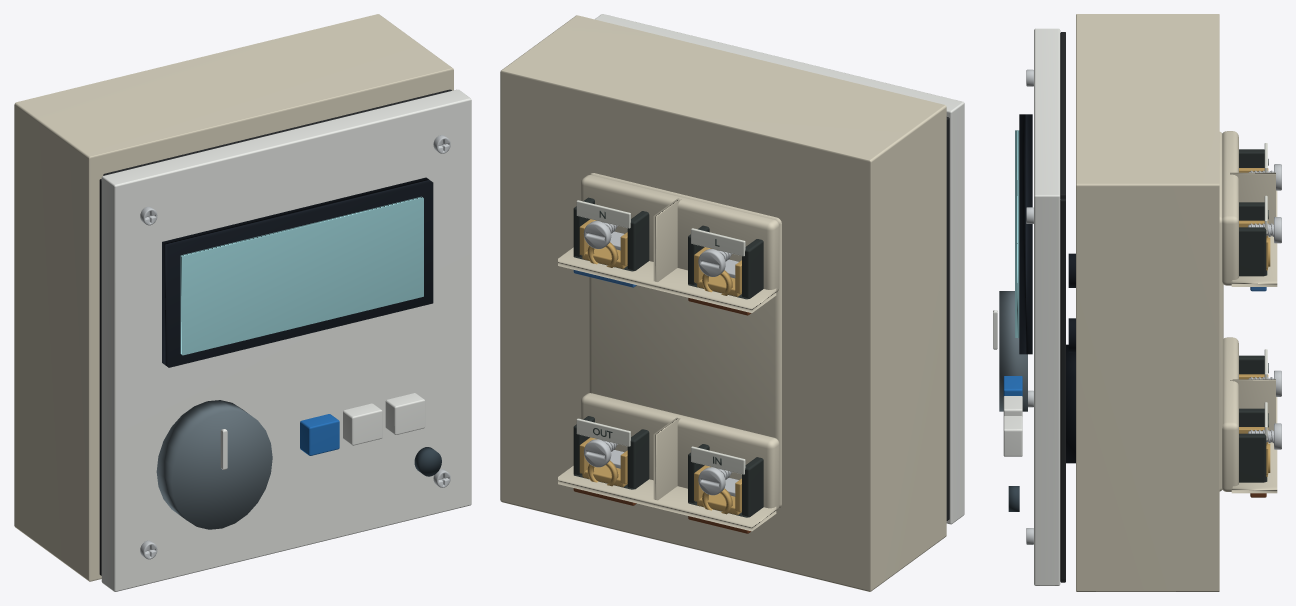
Rendered from timer_default.glb.
3 renders of one model, left to right at view 1: azimuth 30°, elevation 25°; view 2: azimuth 150°, elevation 25°; view 3: azimuth 270°, elevation 25°, orthographic. The views are drawn at different scales.
Visible parts, largest first — view 1: part:cover, part:body, part:display, part:body.001, part:body.001 · Original 7dbee62c, detail:enclosure-gasket-and-fixings · Detail rubber gasket, detail:enclosure-gasket-and-fixings · Detail zinc plated fix, part:display.001; view 2: part:body, part:terminals · Original 5a609f27, part:cover, detail:terminal-clamp:N · Detail moulded engineering polymer, detail:terminal-clamp:OUT · Detail moulded engineering polym, detail:terminal-clamp:IN · Detail moulded engineering polyme, detail:terminal-clamp:L · Detail moulded engineering polymer, detail:enclosure-gasket-and-fixings · Detail rubber gasket, detail:terminal-clamp:OUT · Detail machined brass, detail:terminal-clamp:N · Detail machined brass, detail:terminal-clamp:IN · Detail machined brass, detail:terminal-clamp:L · Detail machined brass (+8 smaller); view 3: part:body, part:cover, part:terminals · Original 5a609f27, part:display, detail:enclosure-gasket-and-fixings · Detail rubber gasket, part:body.001, detail:terminal-clamp:OUT · Detail moulded engineering polym, detail:terminal-clamp:N · Detail moulded engineering polymer, part:body.001 · Original 7dbee62c, part:contacts, part:electronics · Original 3ff2d46d, detail:enclosure-gasket-and-fixings · Detail zinc plated fix (+2 smaller).
Boxes of the visible parts, x1,y1,x2,y2 form: part:cover: [101, 89, 471, 591]; part:body: [14, 14, 453, 581]; part:display: [162, 177, 433, 367]; part:body.001: [156, 400, 339, 529]; part:body.001 · Original 7dbee62c: [220, 393, 425, 469]; detail:enclosure-gasket-and-fixings · Detail rubber gasket: [99, 89, 451, 575]; detail:enclosure-gasket-and-fixings · Detail zinc plated fix: [140, 135, 450, 559]; part:display.001: [414, 447, 441, 476]; part:body: [500, 15, 946, 591]; part:terminals · Original 5a609f27: [558, 173, 781, 531]; part:cover: [595, 14, 964, 524]; detail:terminal-clamp:N · Detail moulded engineering polymer: [573, 197, 649, 271]; detail:terminal-clamp:OUT · Detail moulded engineering polym: [573, 416, 649, 489]; detail:terminal-clamp:IN · Detail moulded engineering polyme: [688, 444, 763, 517]; detail:terminal-clamp:L · Detail moulded engineering polymer: [688, 225, 763, 299]; detail:enclosure-gasket-and-fixings · Detail rubber gasket: [946, 117, 949, 520]; detail:terminal-clamp:OUT · Detail machined brass: [579, 437, 627, 487]; detail:terminal-clamp:N · Detail machined brass: [579, 219, 627, 268]; detail:terminal-clamp:IN · Detail machined brass: [694, 465, 741, 514]; detail:terminal-clamp:L · Detail machined brass: [694, 247, 741, 296]; part:body: [1076, 14, 1219, 591]; part:cover: [1034, 28, 1060, 585]; part:terminals · Original 5a609f27: [1219, 131, 1277, 493]; part:display: [1015, 114, 1032, 354]; detail:enclosure-gasket-and-fixings · Detail rubber gasket: [1060, 32, 1065, 582]; part:body.001: [999, 291, 1027, 411]; detail:terminal-clamp:OUT · Detail moulded engineering polym: [1239, 408, 1267, 482]; detail:terminal-clamp:N · Detail moulded engineering polymer: [1239, 202, 1267, 276]; part:body.001 · Original 7dbee62c: [993, 310, 1022, 456]; part:contacts: [1066, 344, 1075, 463]; part:electronics · Original 3ff2d46d: [1068, 253, 1075, 352]; detail:enclosure-gasket-and-fixings · Detail zinc plated fix: [1026, 69, 1033, 544].
Bounding box in the file's own units: 0.7954 × 0.8845 × 0.5672.
